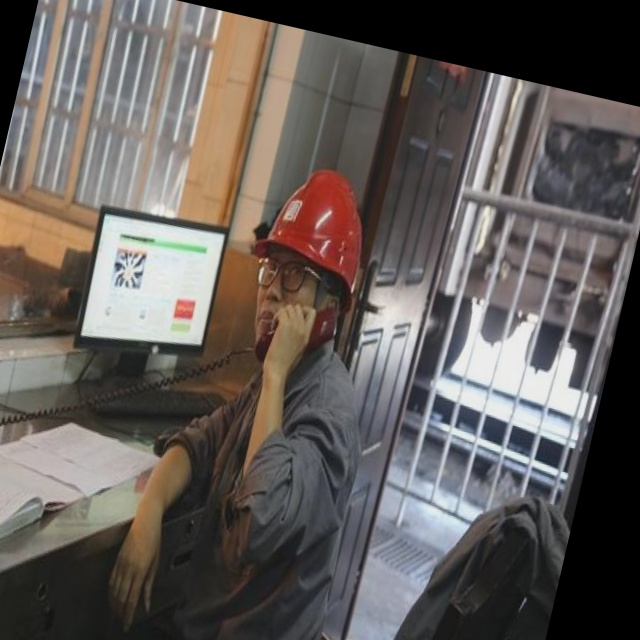Sin_Casco_Mascarrilla: (233, 158, 381, 376)
Sin_Chaleco: (166, 355, 377, 640)
